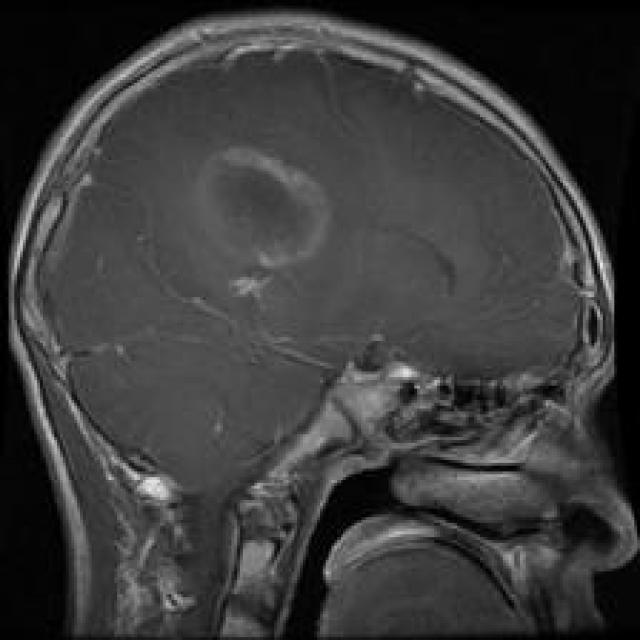glioma_tumor: (179, 134, 335, 316)
